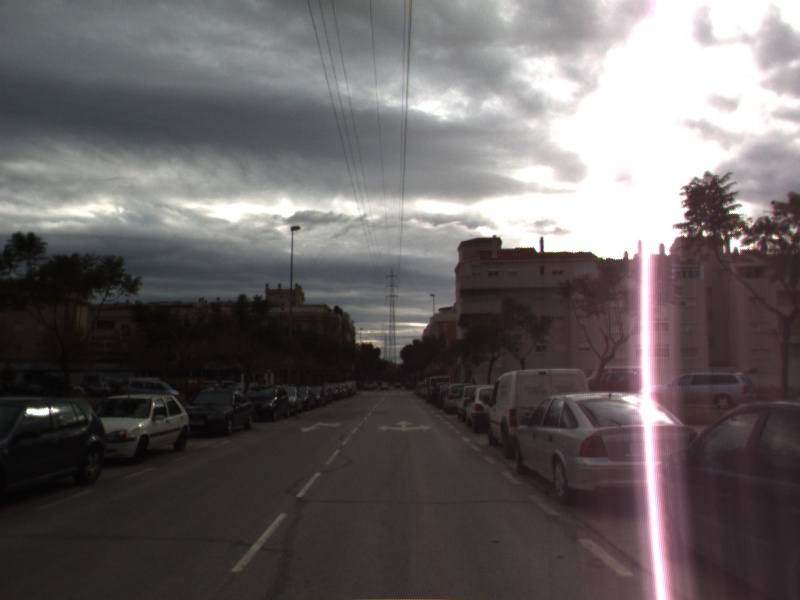STRAIGHT_LEFT_RIGHT: (376, 418, 434, 433)
